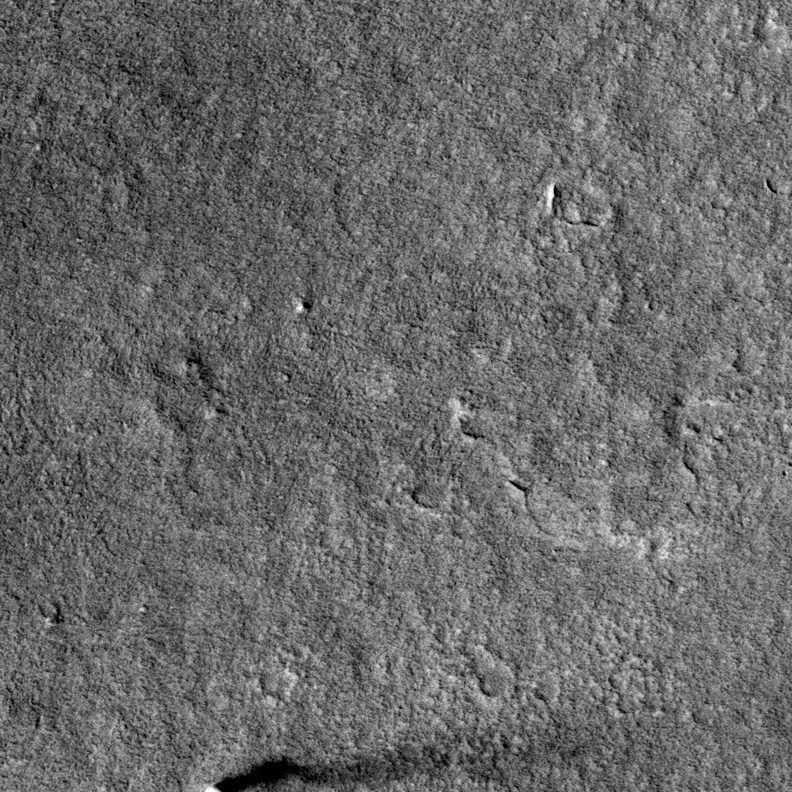dust_devil: (203, 742, 455, 792)
